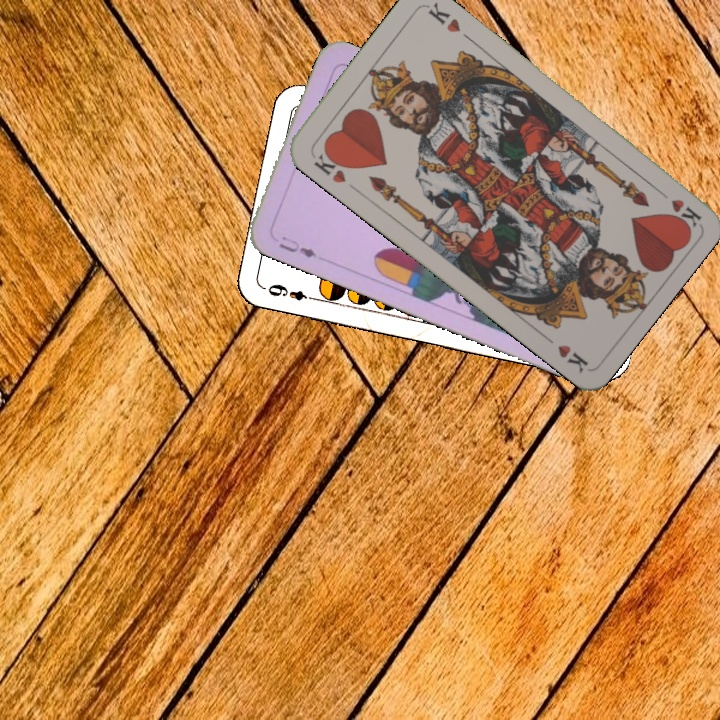E9: (261, 280, 320, 303)
EU: (275, 232, 320, 261)
HK: (651, 183, 703, 229), (308, 145, 352, 186)
